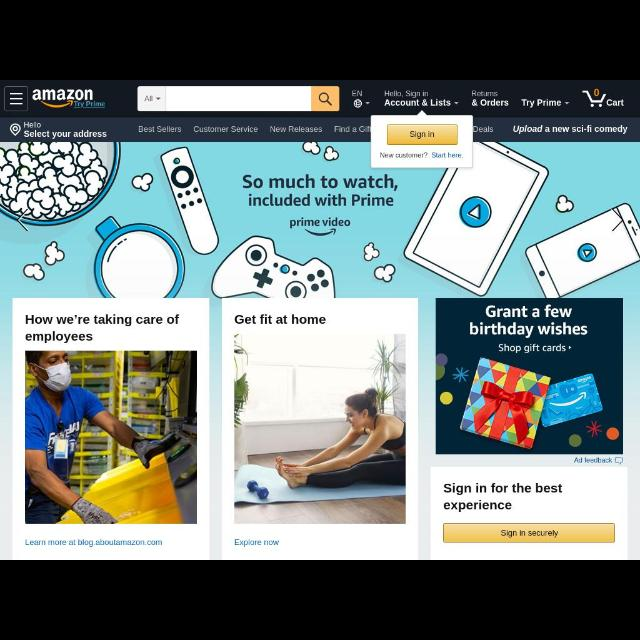backgroundimage: (1, 142, 640, 558)
button: (312, 86, 340, 112), (6, 86, 28, 112)
icon: (582, 87, 606, 109), (16, 208, 29, 234), (612, 208, 624, 232), (8, 92, 24, 106), (318, 93, 332, 105), (9, 124, 21, 136), (615, 458, 623, 464), (353, 100, 361, 106), (564, 100, 570, 106), (454, 100, 458, 106), (156, 97, 160, 101), (366, 102, 370, 105)
image: (234, 334, 406, 524), (25, 351, 196, 523), (436, 298, 622, 454), (32, 88, 106, 109), (290, 216, 350, 236)
input: (166, 88, 312, 110)
link: (74, 102, 106, 108)
multitab: (124, 118, 370, 142)
spinner: (384, 90, 460, 108), (138, 86, 166, 110), (522, 97, 570, 109)
text: (242, 175, 398, 208), (25, 315, 178, 343), (443, 483, 562, 512), (385, 90, 451, 108), (26, 539, 162, 547), (234, 315, 326, 325), (513, 126, 627, 134), (23, 130, 106, 140), (470, 89, 510, 107), (379, 152, 463, 160), (194, 126, 258, 132), (234, 538, 280, 546), (270, 126, 322, 132), (574, 456, 612, 464), (524, 98, 560, 106), (138, 126, 182, 132), (335, 126, 371, 132), (607, 97, 625, 107), (474, 126, 494, 132), (24, 122, 41, 128), (352, 90, 362, 98), (144, 96, 152, 102)
textbutton: (443, 524, 614, 542), (388, 125, 458, 145)
toolbar: (0, 80, 638, 116)
